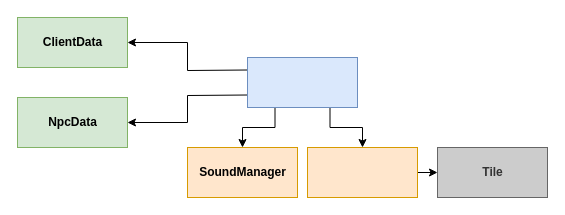
Image size: 565x215. Some labels were removed from this diagram. Each missing label, with the box of its shape:
MapManager: (306, 146, 418, 198)
PaintArea: (246, 56, 358, 108)
